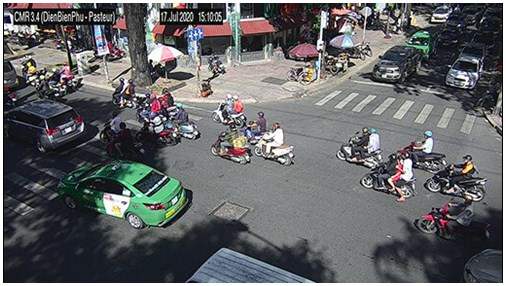xe_hoi: (57, 160, 187, 228), (7, 102, 87, 152), (371, 46, 421, 84), (461, 249, 502, 282), (445, 56, 483, 89), (410, 29, 439, 58), (437, 24, 461, 48), (445, 15, 466, 29), (432, 7, 451, 22)
xe_may: (416, 194, 496, 247), (425, 155, 487, 202), (360, 152, 418, 202), (397, 131, 447, 173), (336, 127, 384, 170), (209, 124, 252, 165), (255, 122, 295, 166), (105, 122, 144, 162), (139, 113, 177, 147), (211, 93, 247, 127), (168, 102, 198, 141), (238, 111, 268, 145), (111, 76, 138, 109), (136, 92, 163, 120), (101, 112, 123, 145), (153, 86, 177, 116), (33, 76, 60, 101), (59, 61, 77, 92), (20, 54, 36, 86)
